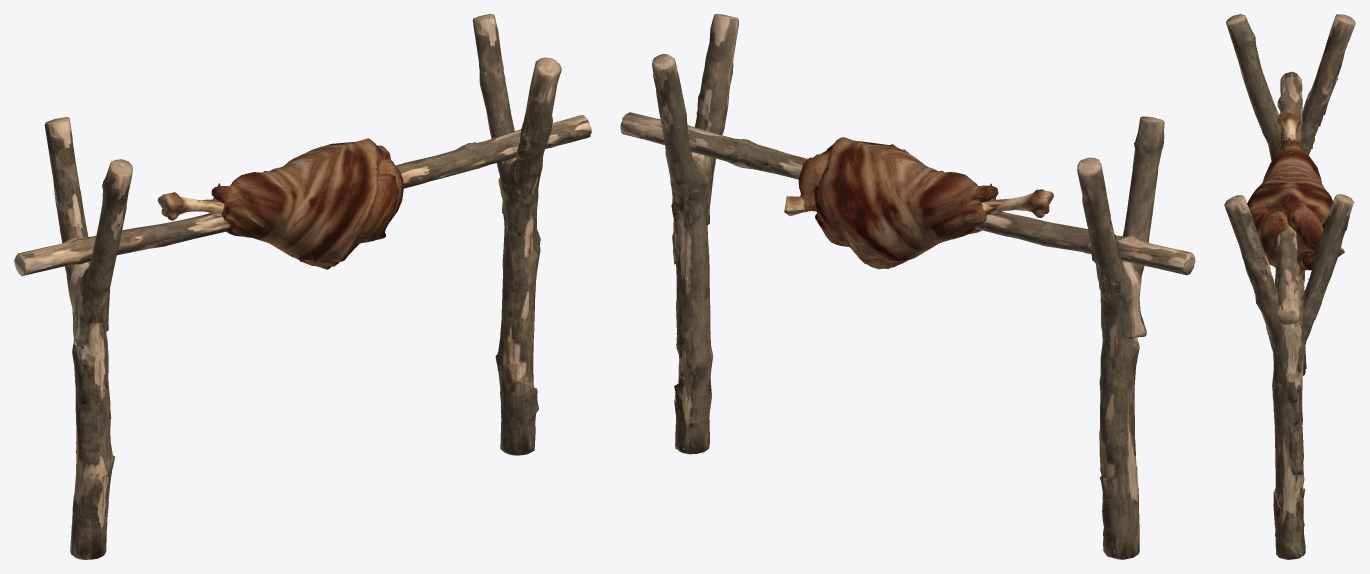
File: spit-roast.glb
The picture shows the model from 3 angles, left to right: view 1: azimuth 30°, elevation 25°; view 2: azimuth 150°, elevation 25°; view 3: azimuth 270°, elevation 25°; orthographic projection. The views are drawn at different scales.
Parts seen in each view (by area): view 1: Mesh_0; view 2: Mesh_0; view 3: Mesh_0.
Boxes of the visible parts, box(x1,y1,x2,y2) form: Mesh_0: box(14, 14, 591, 559); Mesh_0: box(620, 14, 1195, 559); Mesh_0: box(1224, 14, 1355, 559).
Size of the model in its own units: 1.86 by 1.3 by 0.4337.
1 material, 1 textured.
